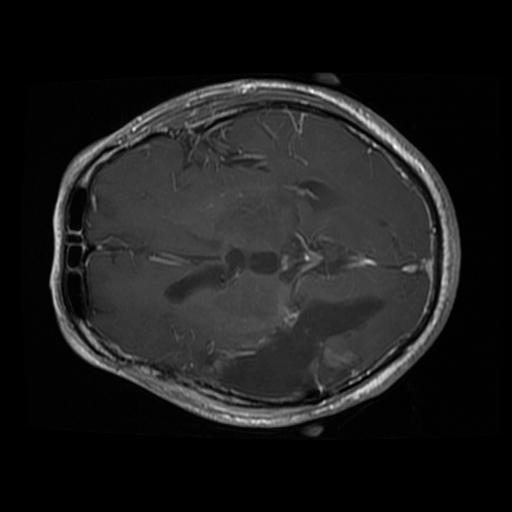glioma: (219, 295, 382, 399)
